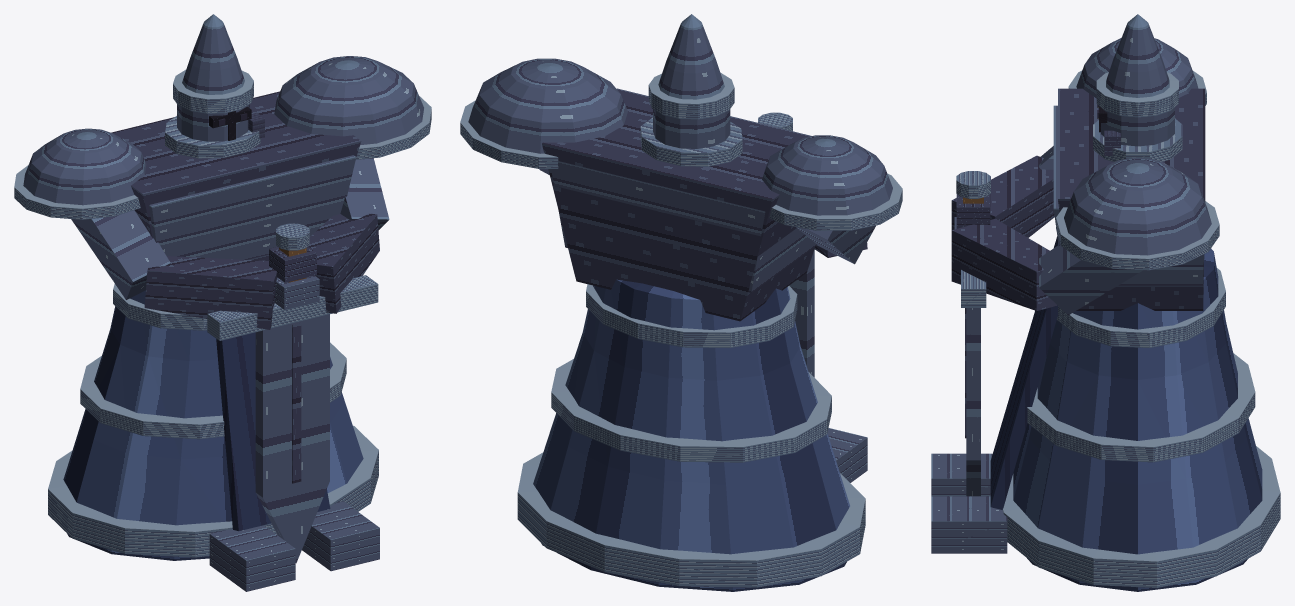
File: gruftwaechter_B.glb
3 renders of one model, left to right at view 1: azimuth 30°, elevation 25°; view 2: azimuth 150°, elevation 25°; view 3: azimuth 270°, elevation 25°, orthographic. The views are drawn at different scales.
Visible parts, largest first — view 1: body, sword, arm_l, head, arm_r; view 2: body, head, sword, arm_l; view 3: body, arm_r, head, sword, arm_l.
Part boxes in pixels (x1=…): body: x1=14, y1=56, x2=431, y2=591; sword: x1=207, y1=223, x2=378, y2=563; arm_l: x1=71, y1=210, x2=277, y2=329; head: x1=173, y1=14, x2=264, y2=141; arm_r: x1=308, y1=158, x2=389, y2=313; body: x1=460, y1=58, x2=902, y2=591; head: x1=648, y1=14, x2=734, y2=148; sword: x1=758, y1=112, x2=814, y2=377; arm_l: x1=796, y1=225, x2=875, y2=264; body: x1=931, y1=38, x2=1280, y2=591; arm_r: x1=951, y1=218, x2=1142, y2=315; head: x1=1096, y1=14, x2=1178, y2=155; sword: x1=954, y1=171, x2=990, y2=496; arm_l: x1=951, y1=146, x2=1054, y2=237.
Size of the model in its own units: 2.27 by 2.65 by 1.66.
Materials: 1 (1 with a texture image).
